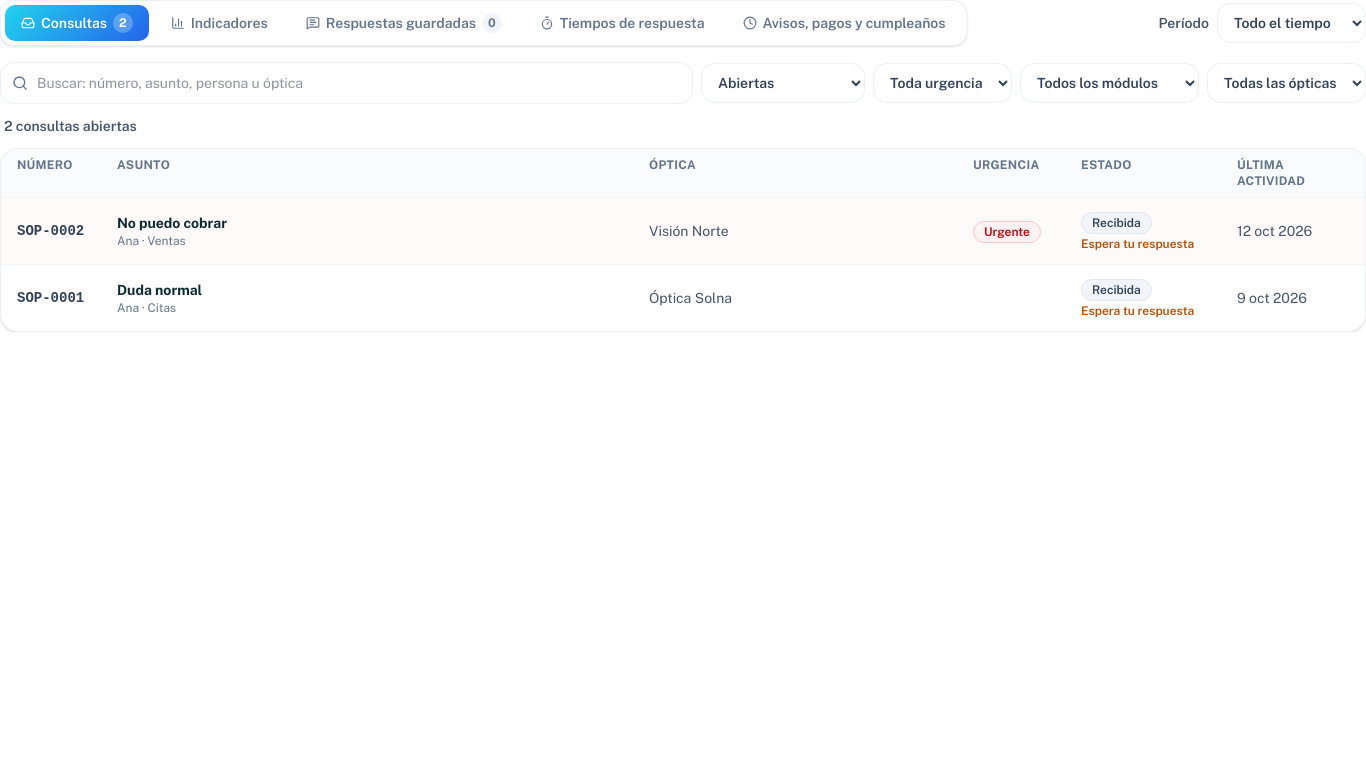
Test: Soporte del superadmin: la conversación › inserta una respuesta guardada y se puede editar antes de enviar
The image size is (1366, 768).
Click the button "No puedo cobrar" at x=172, y=223, box [117,213,227,233]
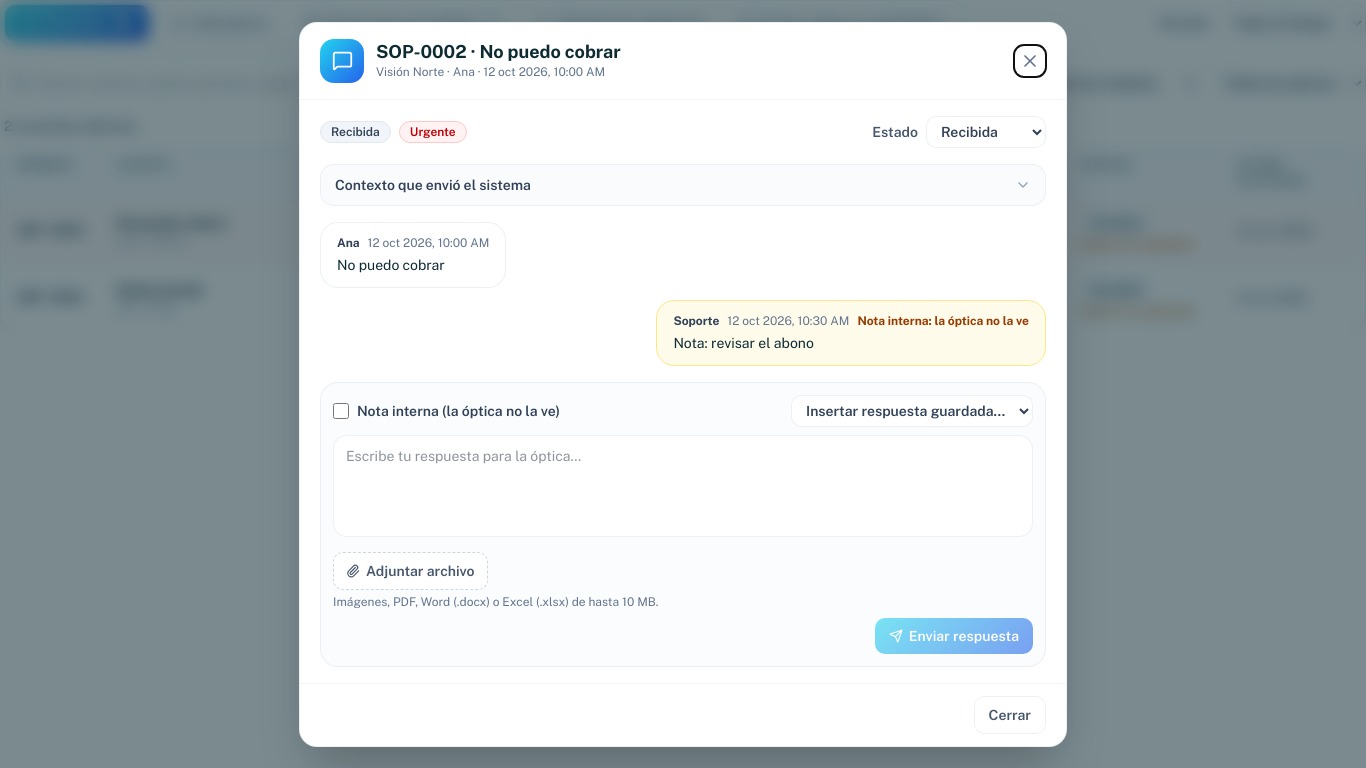
Select "Restablecer clave" in the dropdown named "Insertar una respuesta guardada" at x=912, y=410, box [791,394,1033,426]
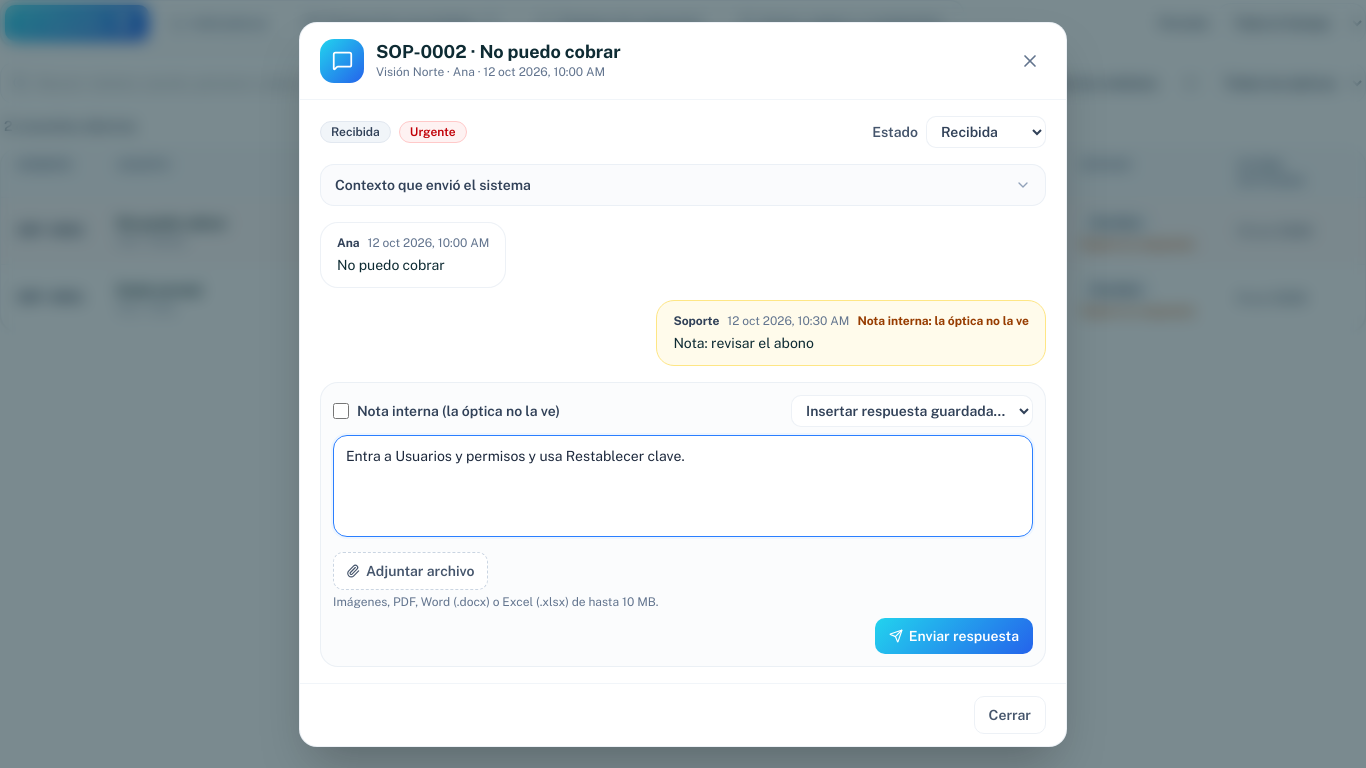
Expected: the text box named "tu respuesta" holds "Entra a Usuarios y permisos y usa Restablecer clave.", [333,434,1033,536]
